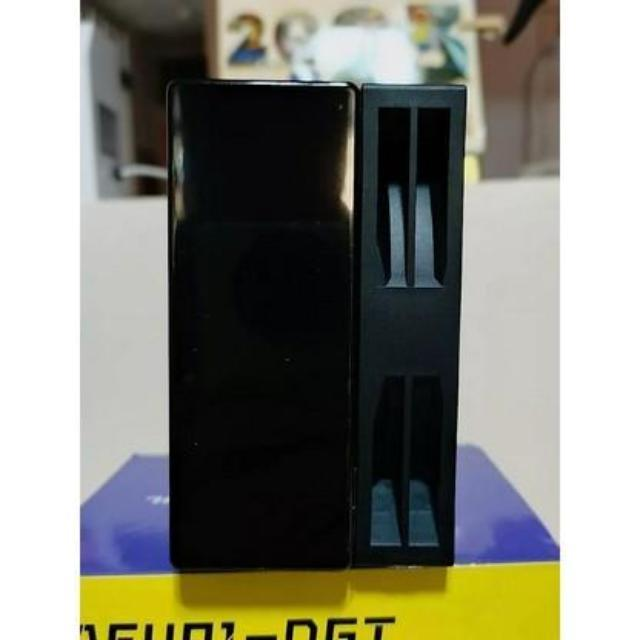CPU_Fan: (160, 72, 458, 576)
